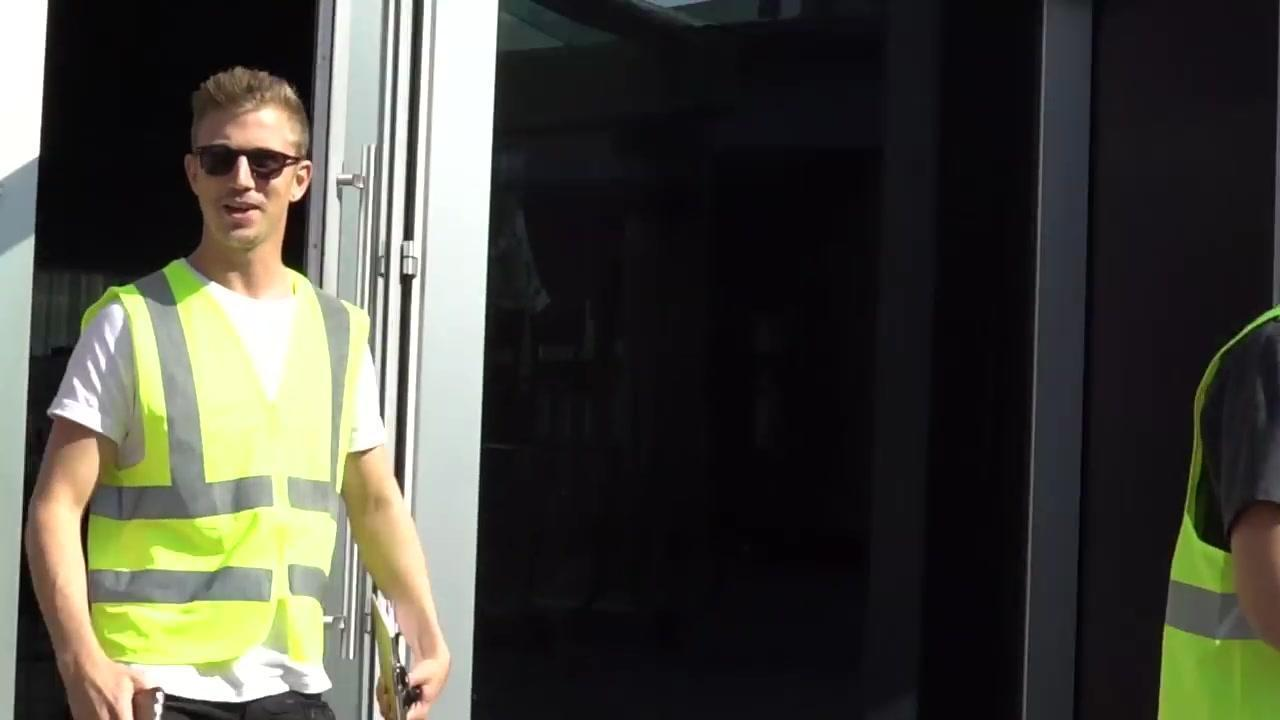Boots: (176, 56, 321, 177)
Glass: (60, 255, 373, 713), (1146, 281, 1279, 719)
